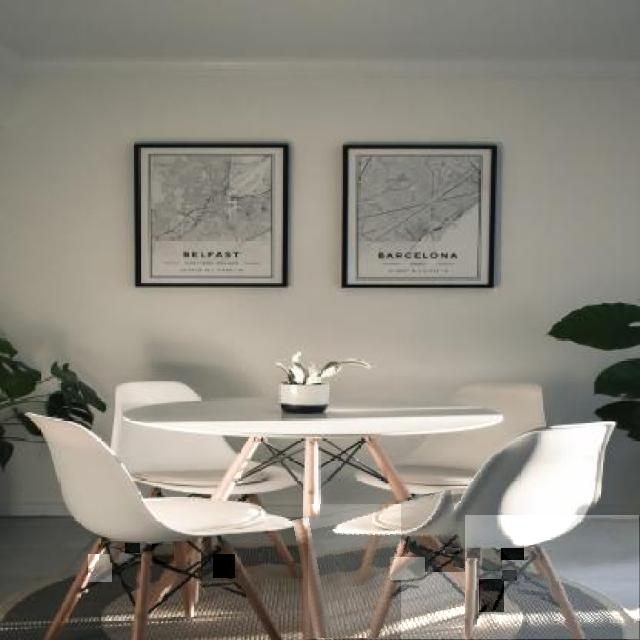floor: (465, 515, 639, 640), (308, 504, 401, 639), (381, 573, 476, 639), (148, 571, 187, 607), (479, 580, 504, 612), (391, 557, 425, 580), (89, 555, 112, 582), (150, 566, 166, 601), (213, 554, 235, 578), (528, 567, 551, 588), (200, 569, 238, 581), (152, 545, 174, 564), (483, 550, 502, 571), (122, 565, 138, 588), (519, 582, 551, 593), (502, 548, 524, 560), (111, 549, 129, 563), (503, 570, 517, 581), (454, 555, 466, 567), (125, 544, 140, 553), (445, 547, 459, 554)
